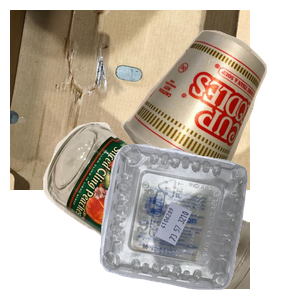cardboard: (10, 10, 250, 190)
glass: (41, 120, 281, 300)
plastic: (97, 141, 300, 300)
trash: (119, 28, 300, 207)
